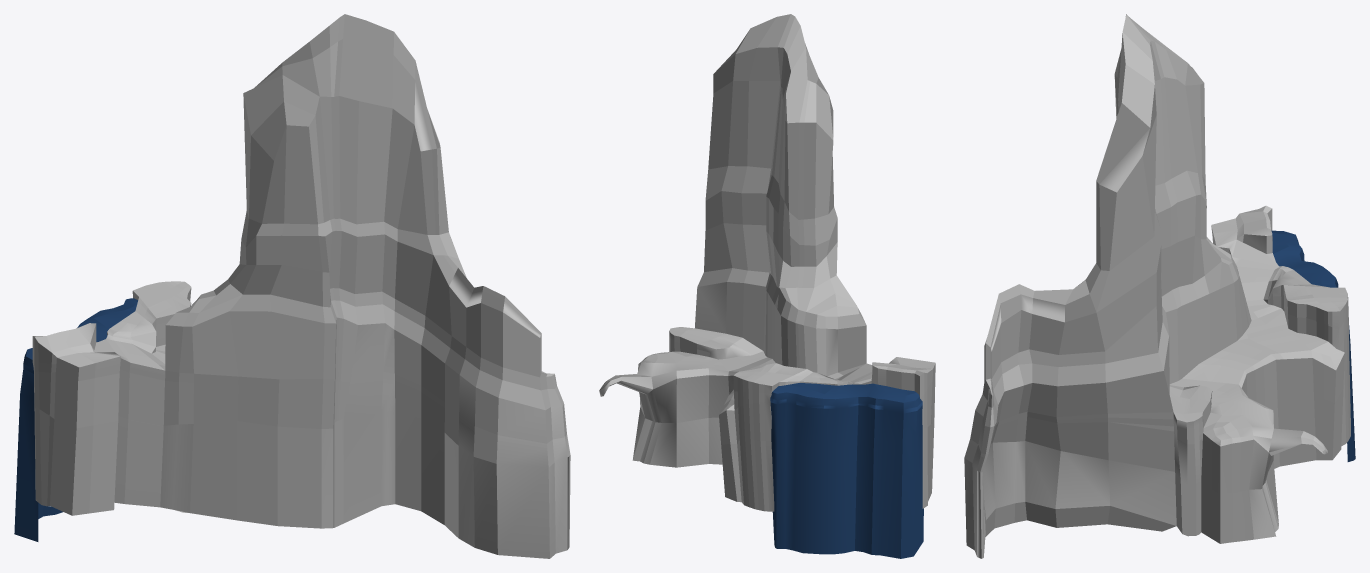
Rendered from 3D_Environnement_Ile1Q8_V01.fbx.
3 renders of one model, left to right at view 1: azimuth 30°, elevation 25°; view 2: azimuth 150°, elevation 25°; view 3: azimuth 270°, elevation 25°, orthographic. The views are drawn at different scales.
Parts seen in each view (by area): view 1: Ground001, Water001; view 2: Ground001, Water001; view 3: Ground001, Water001.
Boxes of the visible parts, left/top/right/bottom form: Ground001: left=32, top=14, right=570, bottom=558; Water001: left=14, top=298, right=137, bottom=541; Ground001: left=599, top=14, right=935, bottom=511; Water001: left=770, top=383, right=923, bottom=558; Ground001: left=964, top=14, right=1350, bottom=558; Water001: left=1271, top=230, right=1355, bottom=461.
Size of the model in its own units: 83 by 109 by 78.08.
